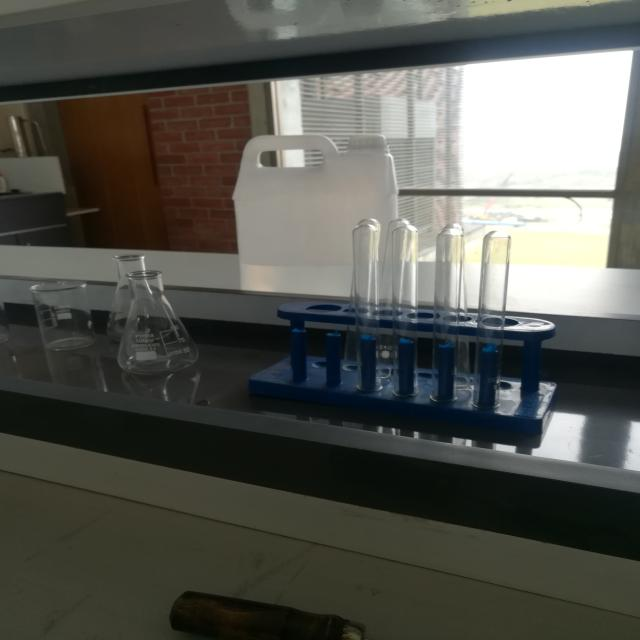Beaker: (18, 265, 103, 367)
Conical_Flask: (110, 244, 215, 391)
Test_Tube: (300, 195, 538, 412)
